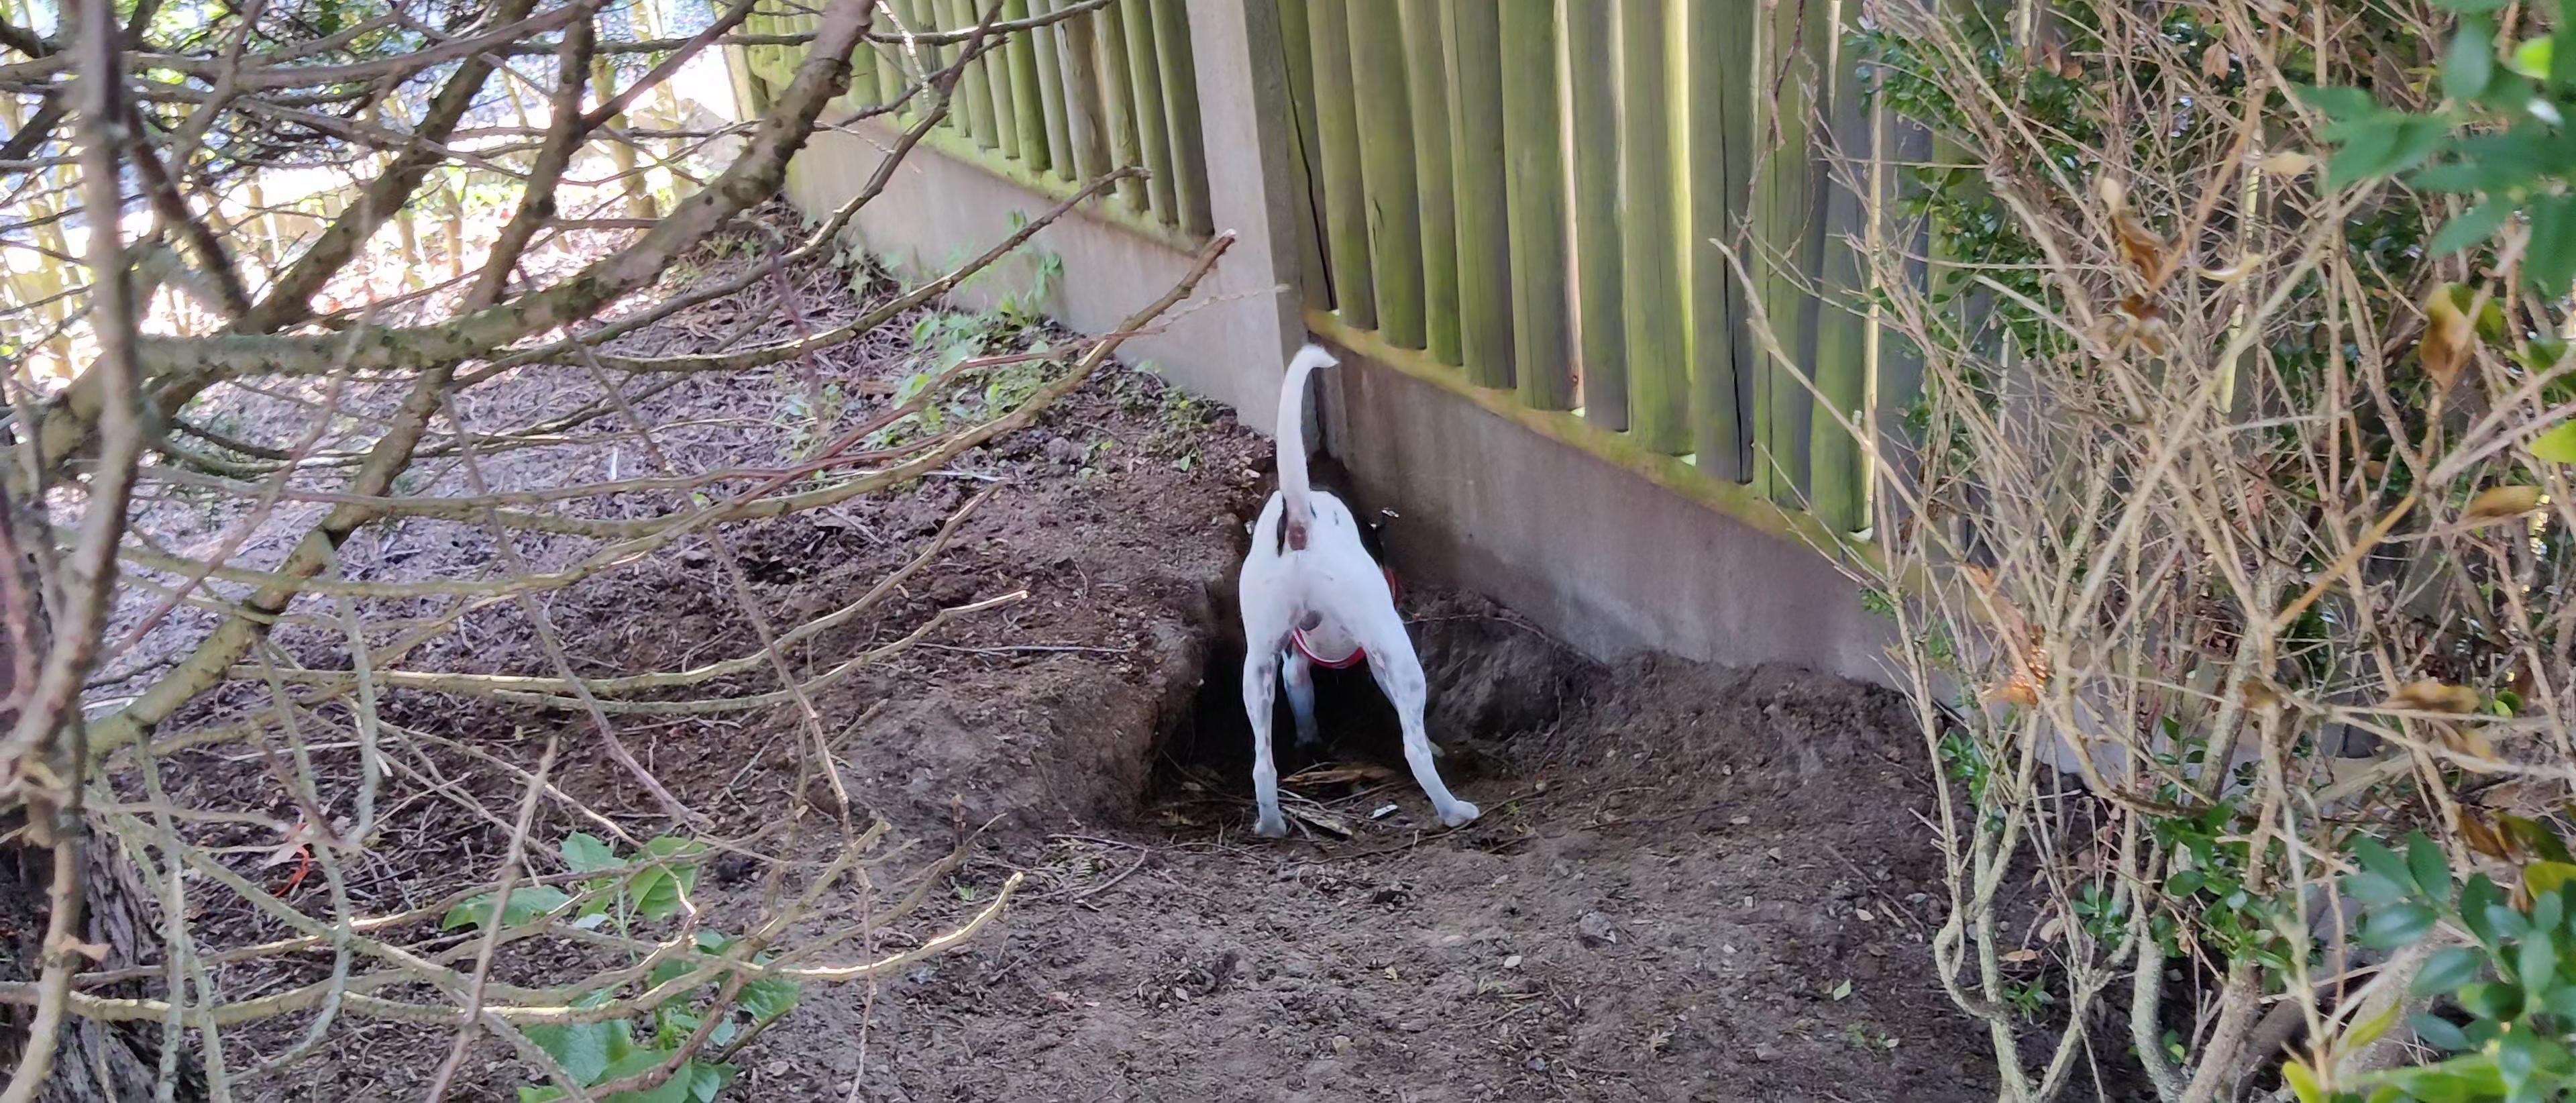Dog: (1193, 329, 1503, 855)
